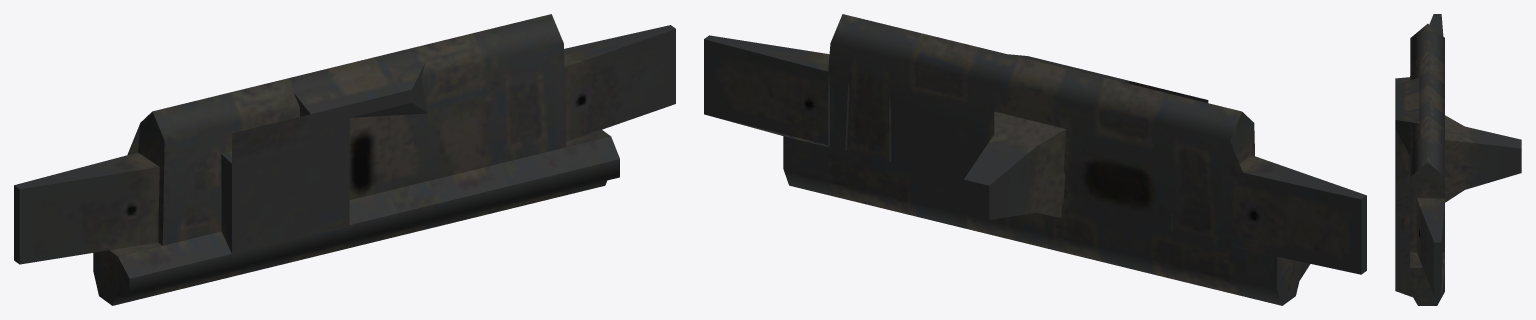
The picture shows the model from 3 angles, left to right: view 1: azimuth 30°, elevation 25°; view 2: azimuth 150°, elevation 25°; view 3: azimuth 270°, elevation 25°; orthographic projection. The views are drawn at different scales.
Parts seen in each view (by area): view 1: set_0_group_0; view 2: set_0_group_0; view 3: set_0_group_0.
Boxes of the visible parts, x1,y1,x2,y2 form: set_0_group_0: (14,14,675,305); set_0_group_0: (704,14,1366,305); set_0_group_0: (1395,14,1521,305).
Size of the model in its own units: 0.8001 by 0.2073 by 0.1871.
Materials: 1 (1 with a texture image).
